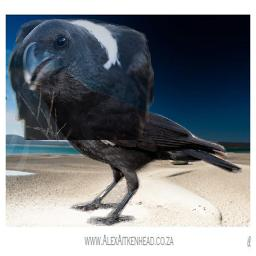Crow: (25, 68, 242, 226), (8, 18, 154, 140)
